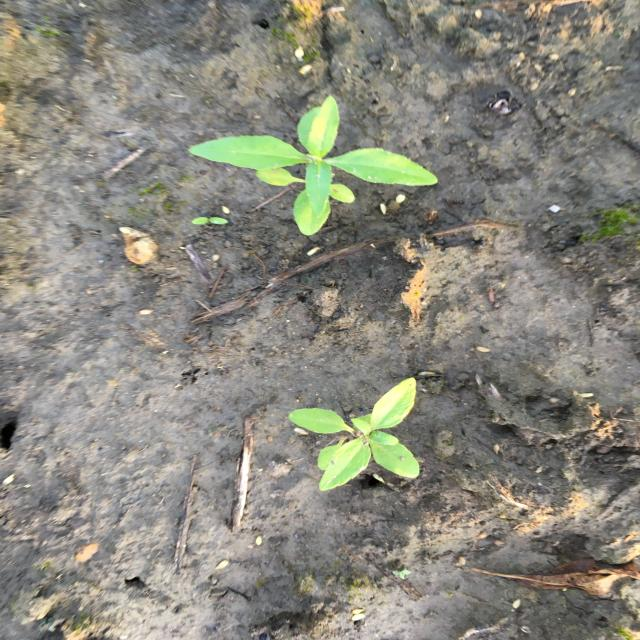Eclipta: (187, 94, 441, 238), (287, 376, 423, 492)
